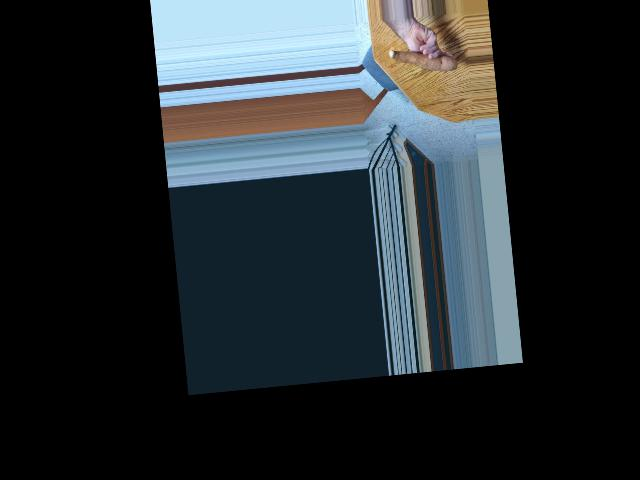sweet_potato: (387, 43, 456, 79)
